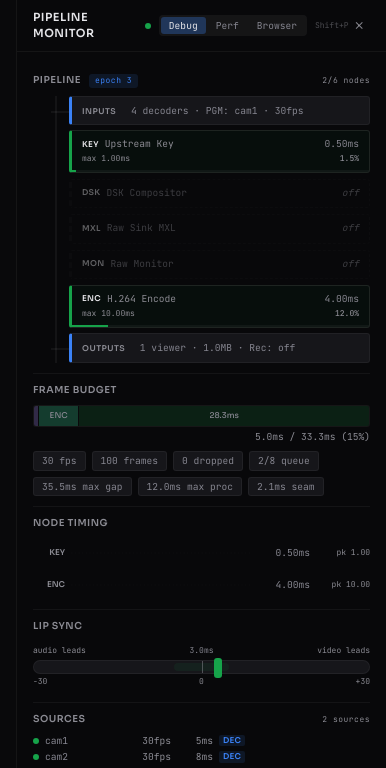
Test: StatsPanel › switches to perf view and fetches /api/perf
The width and height of the screenshot is (386, 768).
// Click Perf toggle
Click the button with class "toggle-btn" showing "Perf". click: (227, 26)
box: [208,17,247,34]
Wait 100 ms
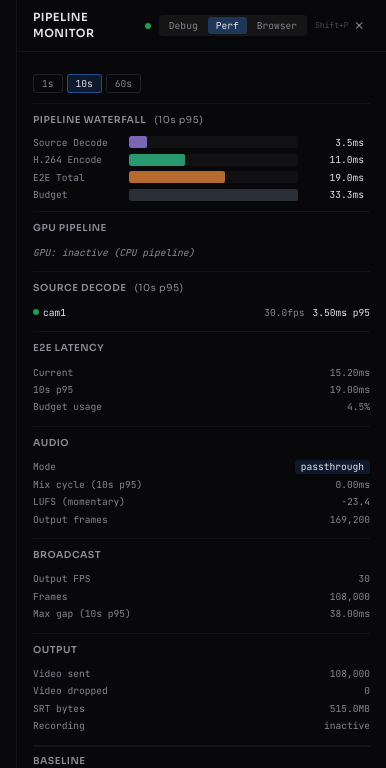
Check: the element with class "stats-panel" shows "PIPELINE WATERFALL", box [33,114,146,126]
Check: the element with class "stats-panel" shows "E2E LATENCY", box [33,342,104,354]
Check: the element with class "stats-panel" shows "passthrough", box [301,460,364,473]
